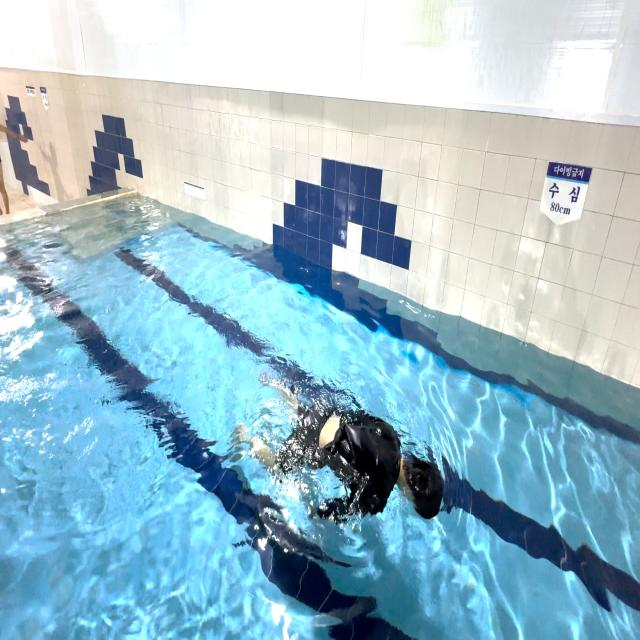Drowning: (220, 352, 449, 542)
